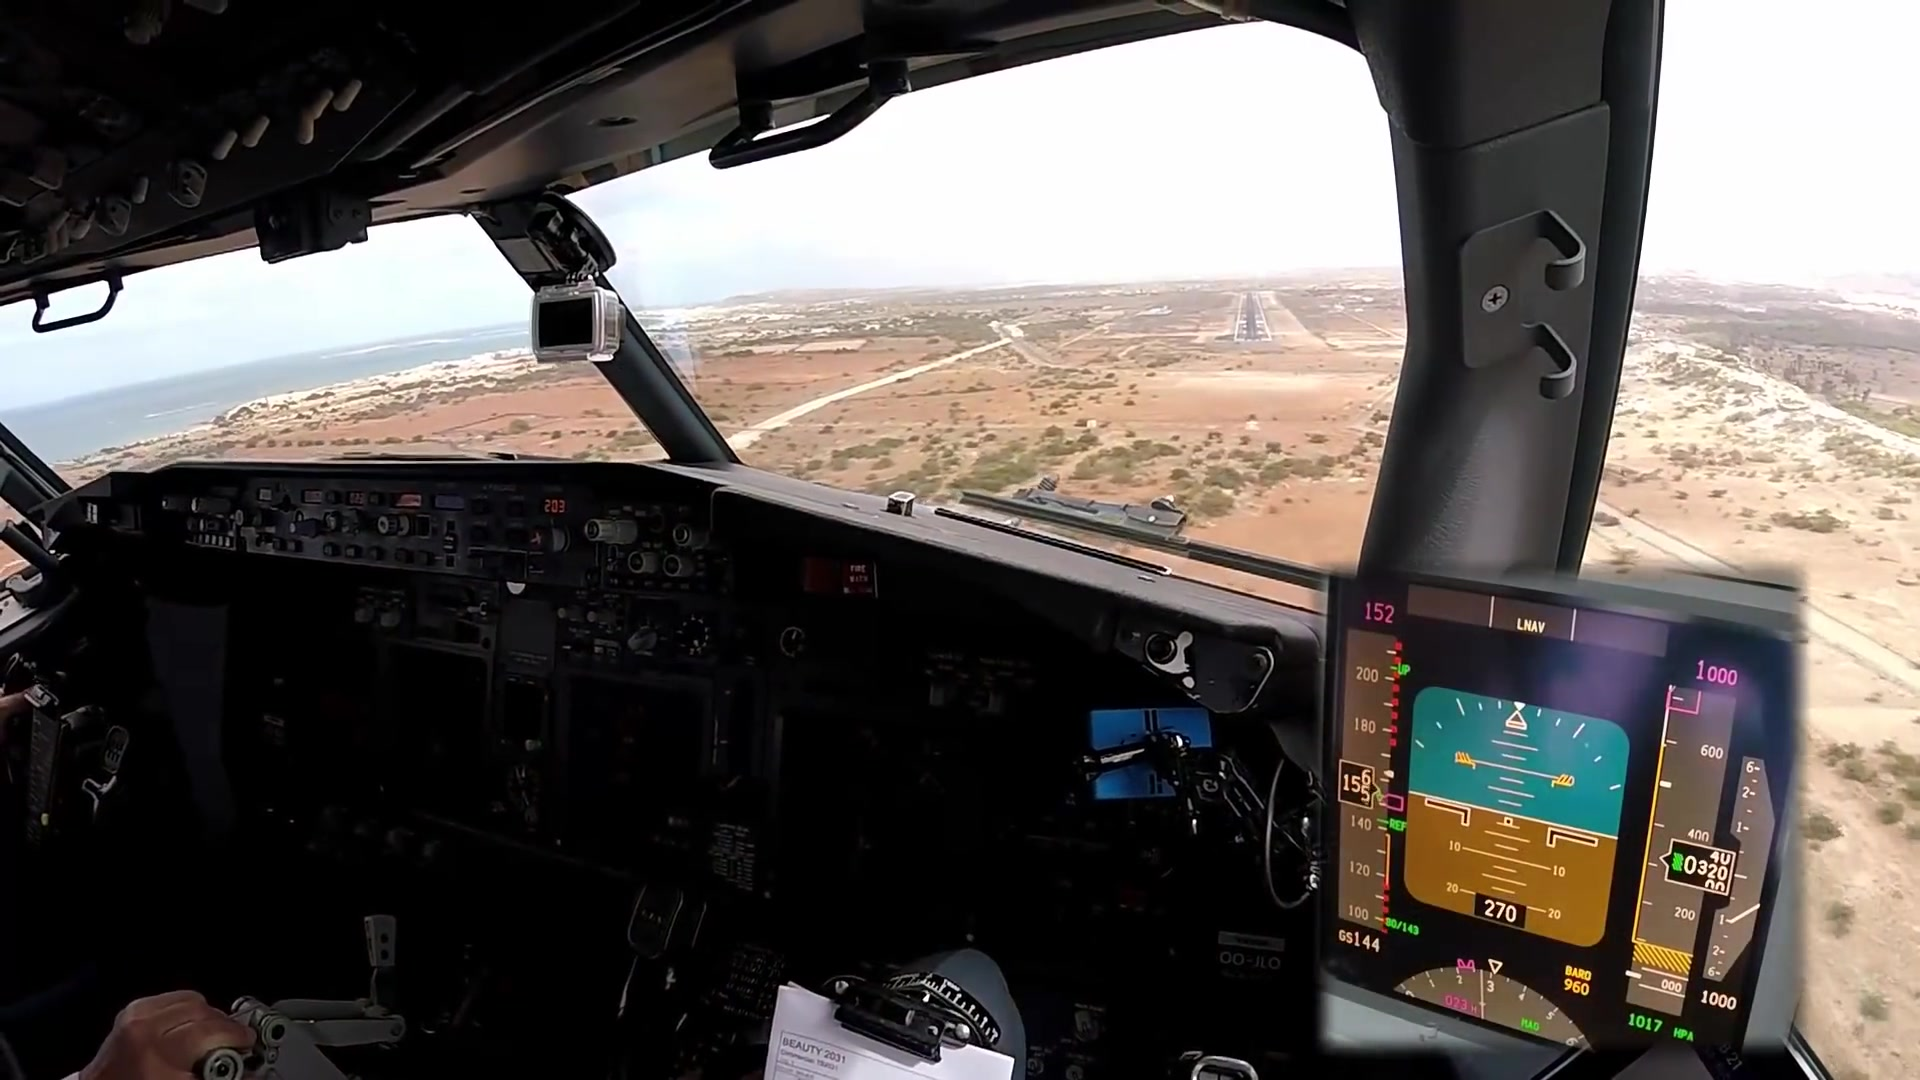runway: (1234, 290, 1276, 343)
